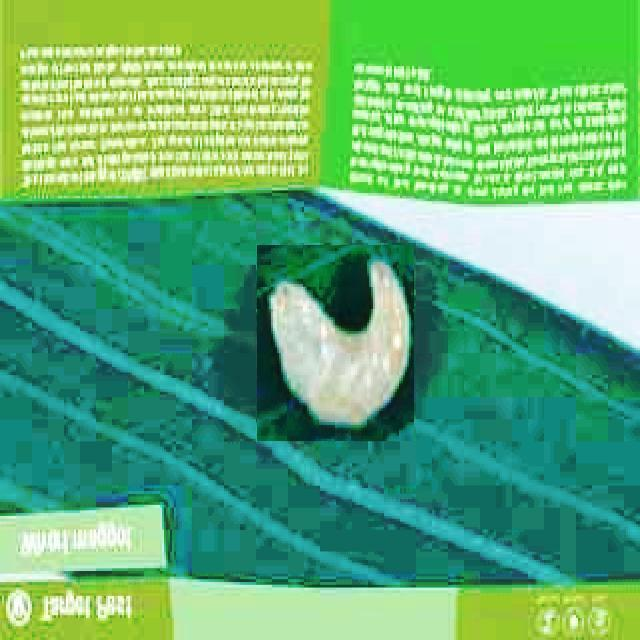whorl-maggot: (257, 245, 414, 441)
